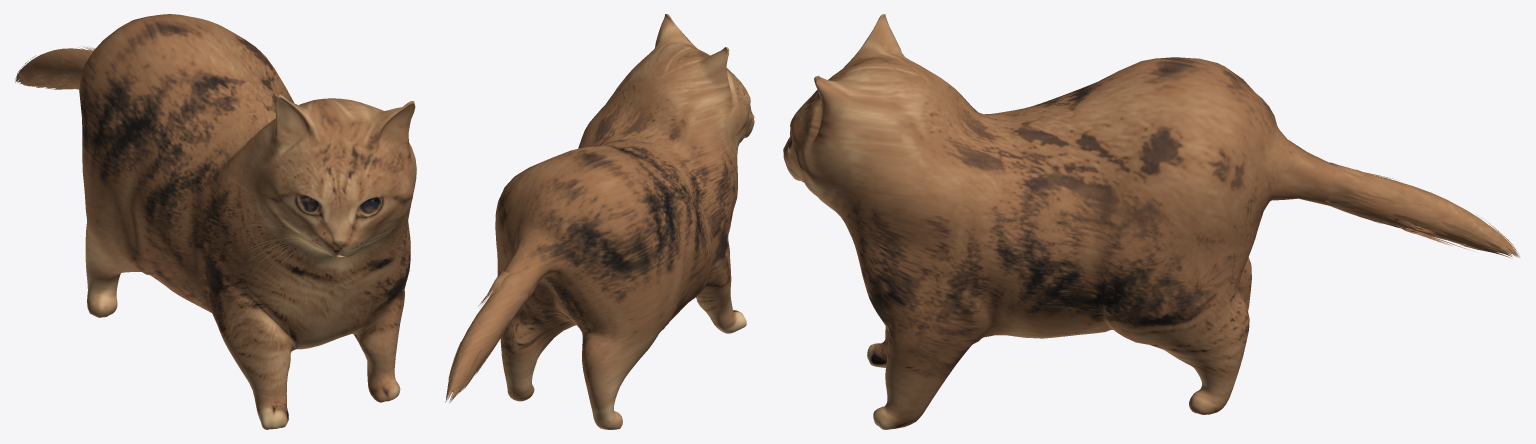
Rendered from cat-orange.glb.
3 views of the same model, side by side, from view 1: azimuth 30°, elevation 25°; view 2: azimuth 150°, elevation 25°; view 3: azimuth 270°, elevation 25° (orthographic). The views are drawn at different scales.
Visible parts, largest first — view 1: Muchkin1.002; view 2: Muchkin1.002; view 3: Muchkin1.002.
Boxes of the visible parts, x1=… form: Muchkin1.002: x1=15, y1=14, x2=416, y2=429; Muchkin1.002: x1=445, y1=14, x2=754, y2=429; Muchkin1.002: x1=783, y1=14, x2=1519, y2=429.
Bounding box in the file's own units: 0.2392 × 0.3866 × 0.7242.
Materials: 1 (1 with a texture image).
